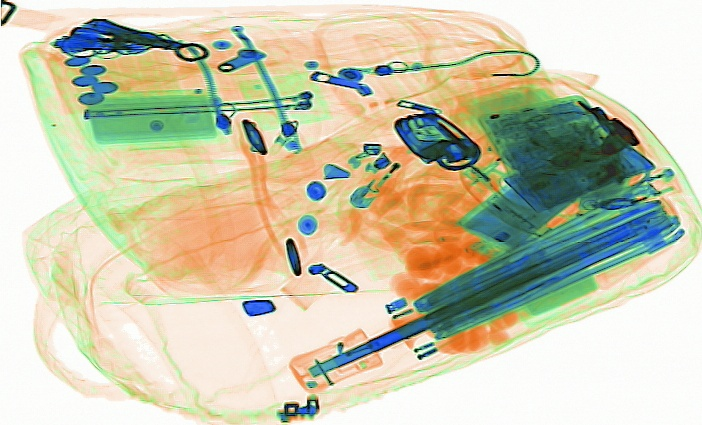lighter: (346, 141, 419, 210)
